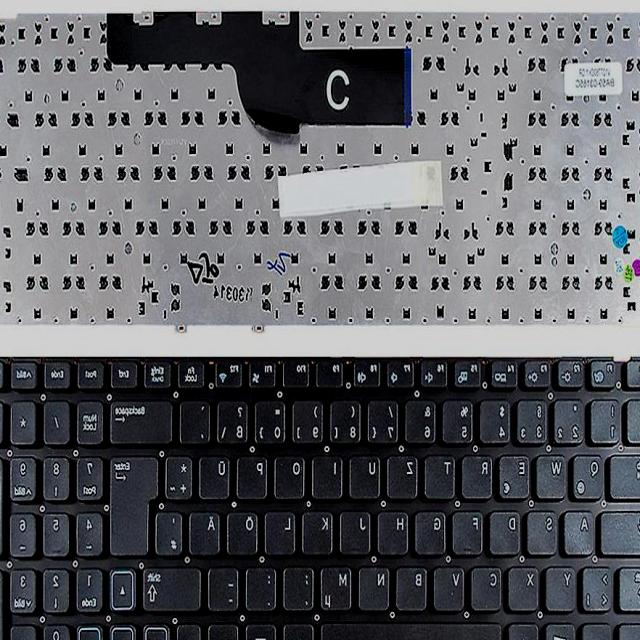0: (257, 397, 289, 443)
1: (592, 396, 623, 442)
2: (555, 396, 587, 442)
3: (517, 396, 551, 442)
4: (482, 396, 513, 442)
5: (445, 396, 477, 442)
6: (407, 396, 439, 444)
7: (369, 396, 401, 444)
8: (333, 397, 365, 443)
9: (295, 396, 327, 444)
a: (566, 507, 598, 553)
accent: (182, 396, 214, 442)
ae: (191, 508, 223, 554)
alt-left: (509, 620, 543, 640)
altgr-right: (285, 620, 317, 640)
b: (398, 563, 432, 611)
c: (473, 563, 505, 609)
caret: (628, 395, 640, 443)
comma: (285, 563, 319, 609)
d: (492, 507, 524, 553)
del: (110, 396, 176, 444)
e: (500, 452, 534, 498)
enter: (110, 450, 160, 556)
f: (454, 508, 486, 552)
g: (417, 507, 449, 553)
h: (379, 508, 411, 554)
hash: (159, 506, 187, 554)
i: (315, 452, 346, 498)
j: (342, 507, 374, 553)
k: (304, 509, 336, 553)
keyboard: (0, 350, 640, 640)
l: (267, 508, 299, 554)
less: (583, 563, 615, 611)
m: (322, 563, 356, 611)
minus: (211, 563, 243, 609)
n: (360, 563, 394, 611)
o: (276, 452, 310, 498)
oe: (230, 508, 262, 554)
p: (239, 452, 271, 498)
plus: (168, 451, 197, 497)
point: (248, 564, 280, 610)
q: (575, 452, 607, 498)
r: (464, 452, 496, 498)
s: (528, 508, 560, 554)
shift-left: (620, 563, 640, 611)
shift-lock: (602, 505, 640, 553)
shift-right: (144, 563, 204, 611)
space: (321, 619, 505, 640)
ss: (220, 396, 252, 442)
strg-left: (620, 619, 640, 640)
strg-right: (209, 620, 243, 640)
t: (427, 451, 459, 497)
tab: (612, 450, 640, 496)
u: (352, 452, 384, 498)
ue: (202, 452, 234, 498)
v: (435, 562, 469, 610)
w: (538, 451, 569, 497)
x: (510, 563, 542, 611)
y: (547, 563, 578, 611)
z: (389, 452, 421, 498)
